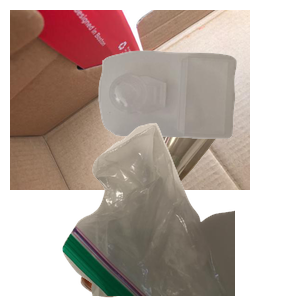cardboard: (10, 10, 250, 190)
glass: (78, 128, 298, 300)
plastic: (96, 48, 300, 179)
trash: (60, 120, 300, 300)
